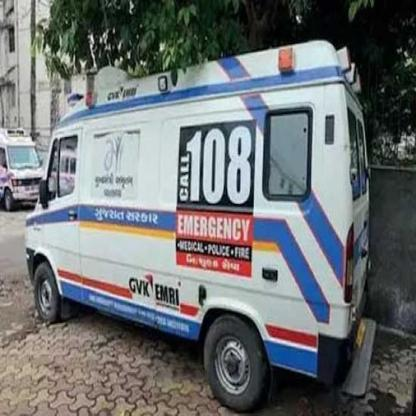priority: (24, 39, 376, 403)
